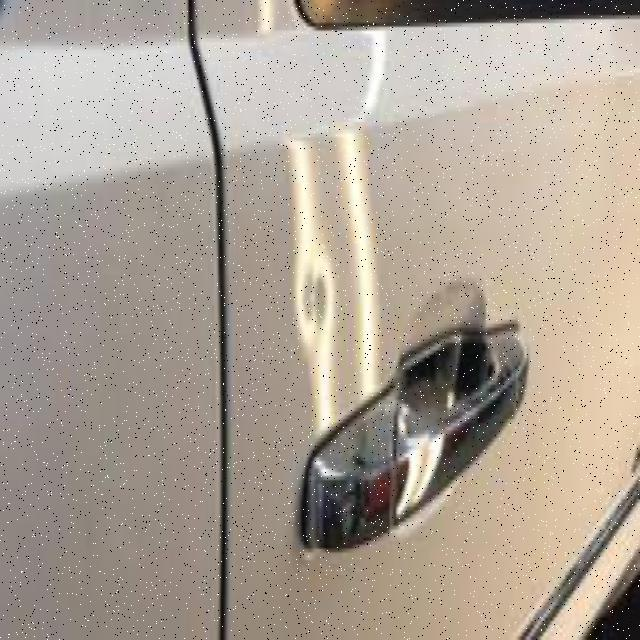doorouter-dent: (222, 0, 638, 598)
